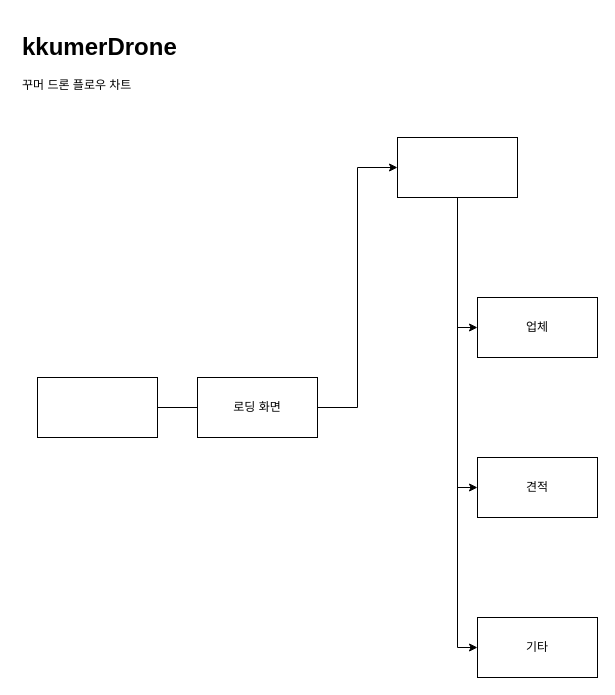
The diagram is 615 pixels wide and 695 high, and some of its shapes have lost their labels. The shapes that lost their labels are listed below. From the top down, each one's centre as x and y in pixels, then its label:
At (x=457, y=167): "메인 화면 (지도)".
At (x=97, y=407): "앱 실행".
